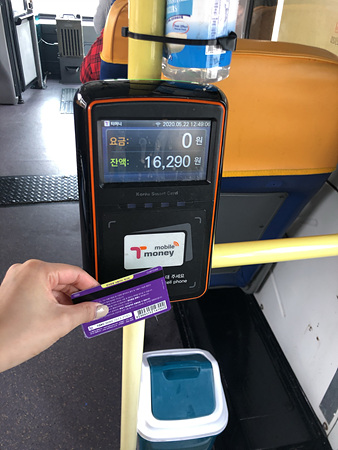terminal: (81, 78, 213, 301)
